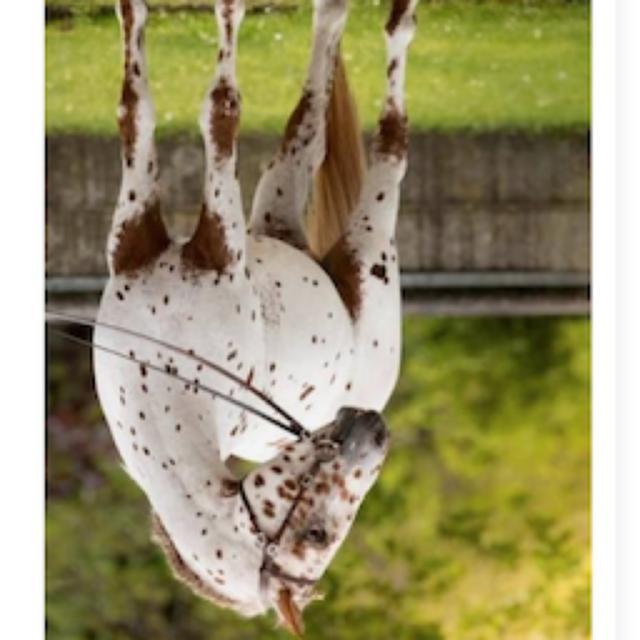Horse: (85, 2, 438, 640)
